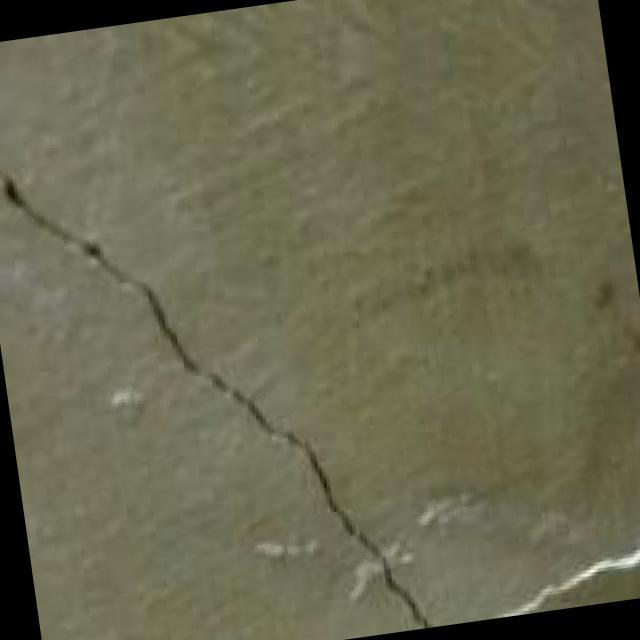crack: (0, 82, 522, 640)
